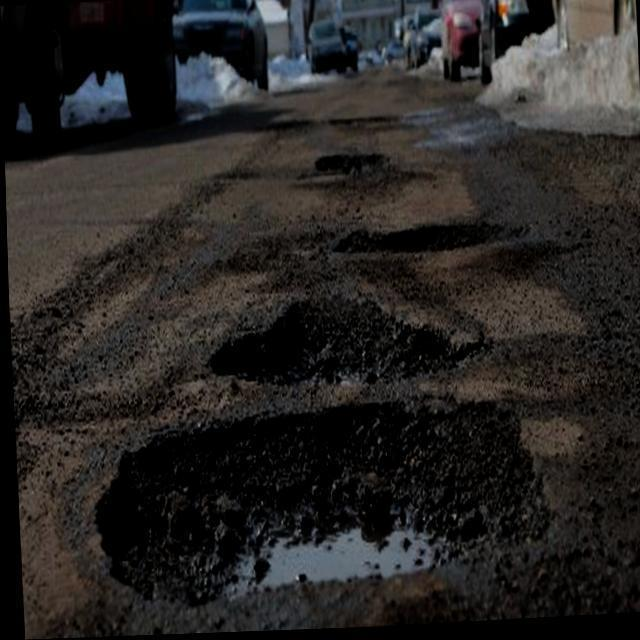Pothole: (95, 402, 549, 606), (209, 295, 484, 383), (332, 221, 520, 253), (296, 152, 432, 191), (320, 114, 404, 129)
